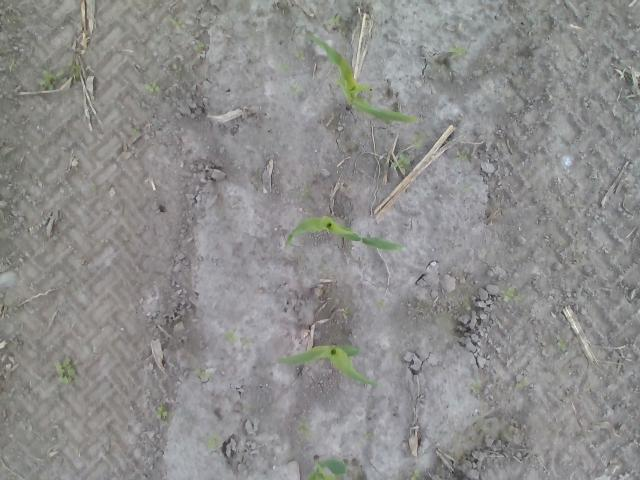Maize: (298, 32, 419, 126), (274, 344, 380, 388), (283, 214, 405, 252), (306, 454, 348, 480)
Weeds: (54, 356, 80, 383), (36, 69, 67, 91), (223, 326, 250, 347), (391, 152, 410, 176), (65, 59, 82, 84), (500, 284, 522, 302), (204, 434, 222, 452), (408, 133, 428, 149), (448, 44, 467, 59), (144, 79, 161, 93), (297, 420, 311, 437), (556, 334, 568, 352), (155, 404, 168, 420), (327, 13, 341, 26), (172, 18, 188, 29), (193, 368, 210, 378), (455, 148, 467, 162), (407, 469, 420, 480), (8, 58, 18, 72), (289, 83, 302, 93), (278, 62, 290, 72), (458, 184, 472, 192), (376, 298, 386, 309), (295, 50, 305, 61), (300, 184, 309, 196), (516, 380, 529, 388), (471, 382, 481, 392), (363, 430, 373, 440), (194, 42, 204, 50), (342, 306, 349, 317)
